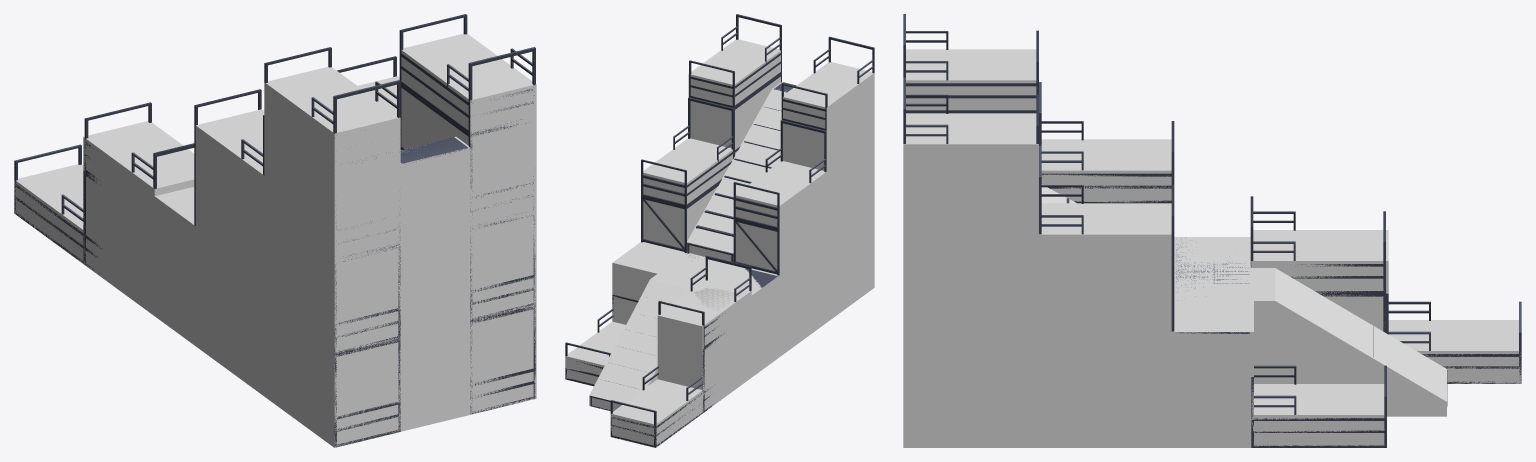
File: squidgame_props_bed_set2.fbx
3 views of the same model, side by side, from view 1: azimuth 30°, elevation 25°; view 2: azimuth 150°, elevation 25°; view 3: azimuth 270°, elevation 25° (orthographic). The views are drawn at different scales.
Parts seen in each view (by area): view 1: squidgame_props_bed_set2_col, squidgame_props_bed_set2; view 2: squidgame_props_bed_set2_col, squidgame_props_bed_set2; view 3: squidgame_props_bed_set2_col, squidgame_props_bed_set2.
Part boxes in pixels (box(x1,y1,x2,y2)): squidgame_props_bed_set2_col: box(14, 33, 536, 447); squidgame_props_bed_set2: box(14, 14, 535, 447); squidgame_props_bed_set2_col: box(565, 39, 874, 447); squidgame_props_bed_set2: box(565, 14, 874, 447); squidgame_props_bed_set2_col: box(903, 49, 1521, 447); squidgame_props_bed_set2: box(903, 14, 1521, 447).
Bounding box in the file's own units: 3.39 × 5.63 × 9.31.
